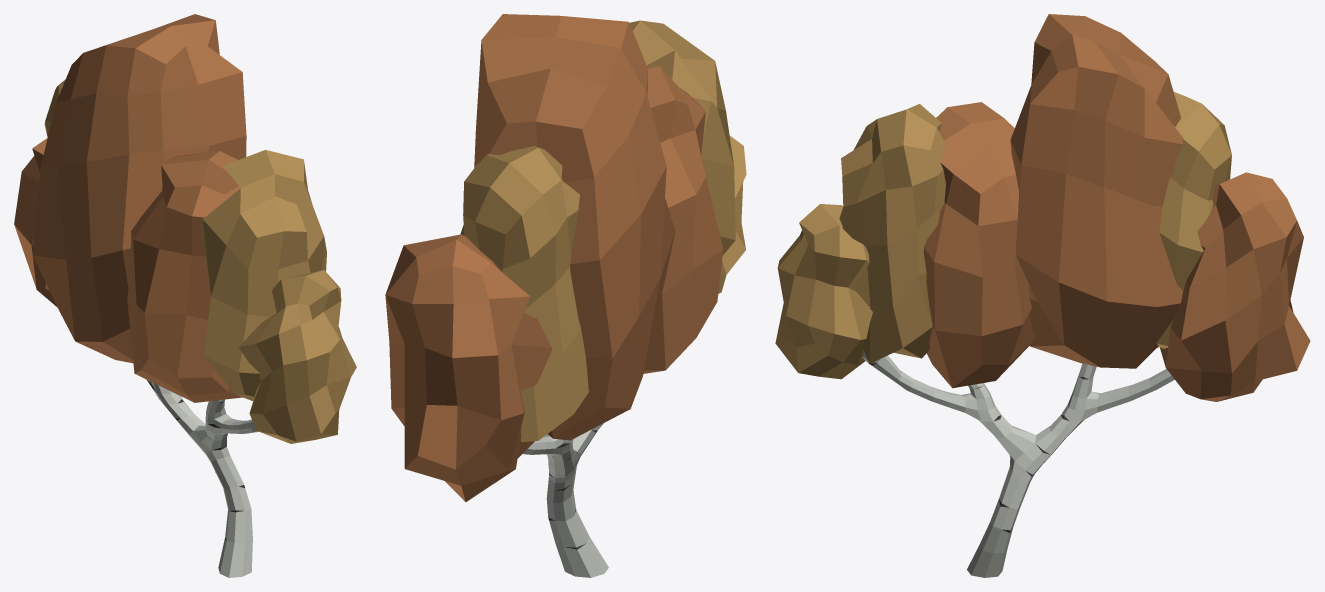
Rendered from BirchTree_Autumn_4.glb.
3 views of the same model, side by side, from view 1: azimuth 30°, elevation 25°; view 2: azimuth 150°, elevation 25°; view 3: azimuth 270°, elevation 25° (orthographic). The views are drawn at different scales.
Parts seen in each view (by area): view 1: BirchTree_Autumn_4_Cube.081; view 2: BirchTree_Autumn_4_Cube.081; view 3: BirchTree_Autumn_4_Cube.081.
Boxes of the visible parts, x1=… form: BirchTree_Autumn_4_Cube.081: x1=14, y1=14, x2=356, y2=577; BirchTree_Autumn_4_Cube.081: x1=385, y1=14, x2=746, y2=577; BirchTree_Autumn_4_Cube.081: x1=775, y1=14, x2=1310, y2=577.
Size of the model in its own units: 1.15 by 3.56 by 3.29.
